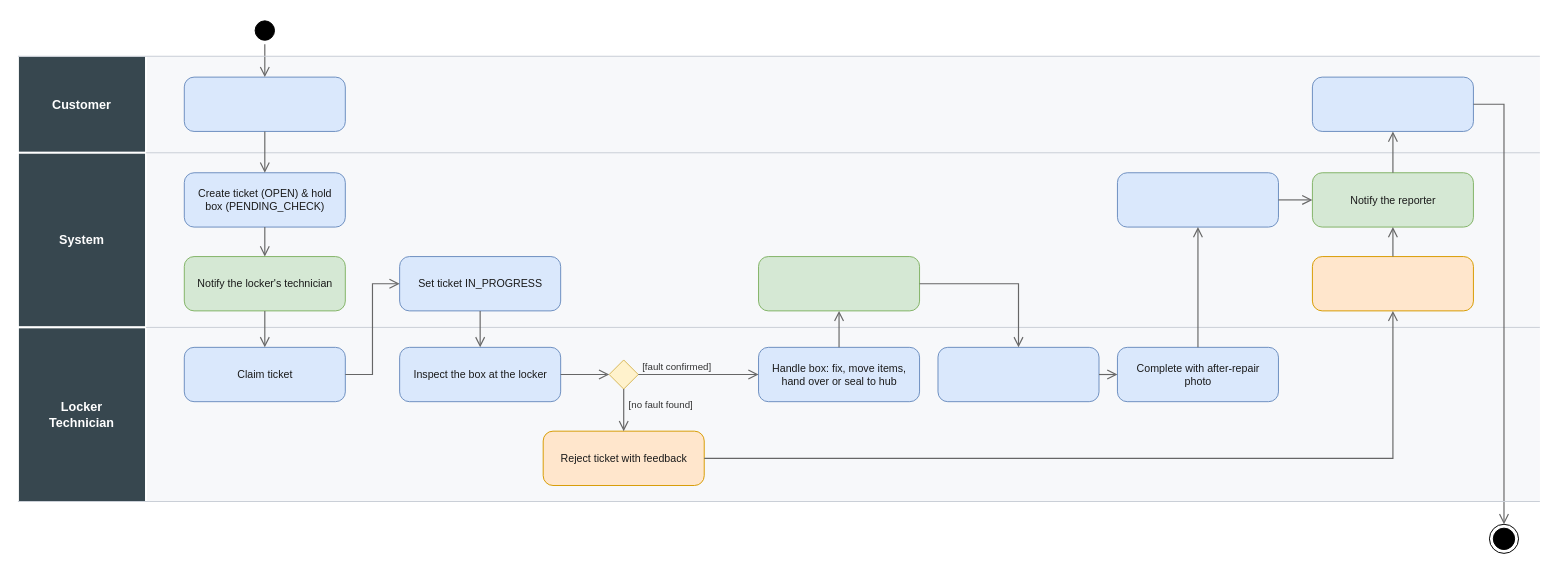
Some shapes in this 1556 by 570 pixel diagram are drawn without their labels. The centre of each missing label's shape, as x and y in pixels:
Repair & log progress: [1018,374]
Report incident (in app or at kiosk): [264,103]
Set ticket REJECTED & restore box: [1392,283]
Set ticket RESOLVED & restore box: [1197,199]
Update order & notify customer: [839,283]
View result & rate: [1392,103]
